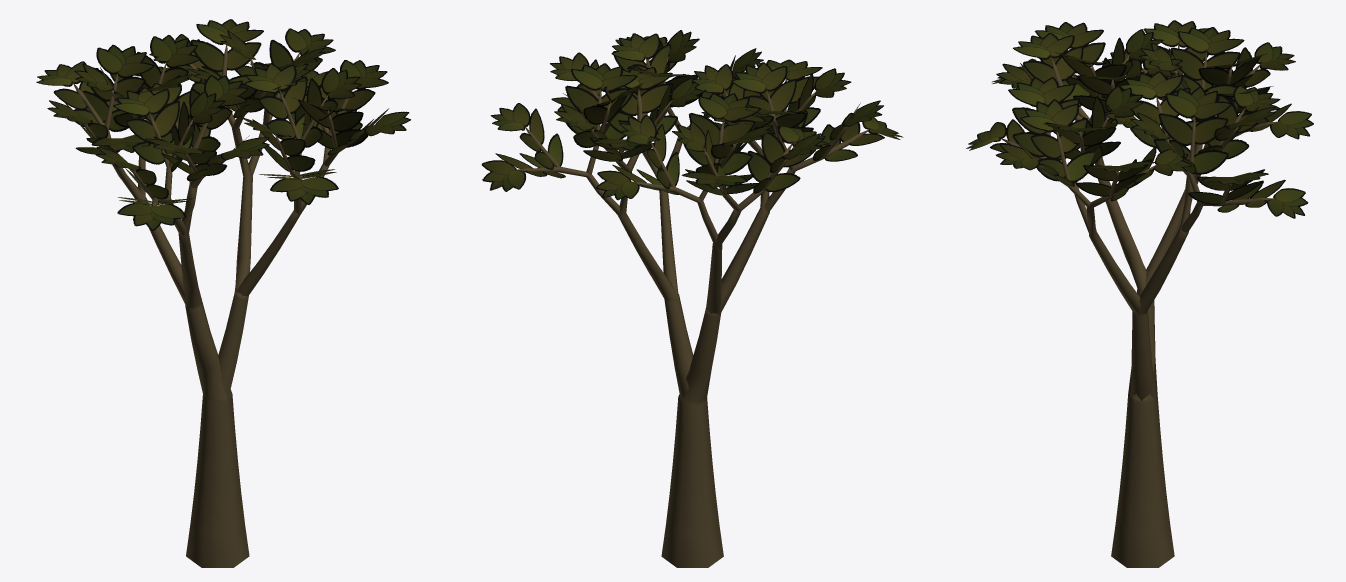
The model's file is temperate.glb.
3 views of the same model, side by side, from view 1: azimuth 30°, elevation 25°; view 2: azimuth 150°, elevation 25°; view 3: azimuth 270°, elevation 25° (orthographic).
Parts seen in each view (by area): view 1: leaf, bark; view 2: leaf, bark; view 3: leaf, bark.
Boxes of the visible parts, bbox=[...] form: leaf: bbox=[36, 19, 410, 230]; bark: bbox=[72, 45, 359, 567]; leaf: bbox=[481, 30, 903, 200]; bark: bbox=[516, 56, 869, 567]; leaf: bbox=[966, 20, 1313, 218]; bark: bbox=[999, 43, 1278, 567].
Bounding box in the file's own units: 2.39 × 3.22 × 2.27.
2 materials, 1 textured.
